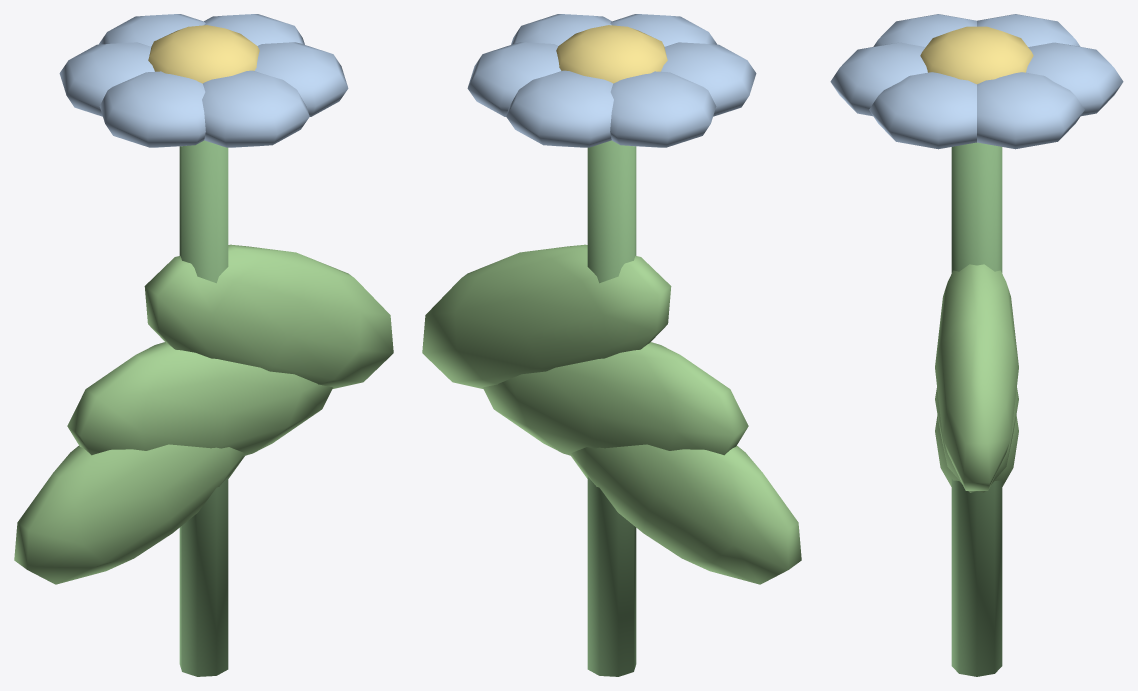
File: flower_b.fbx
The picture shows the model from 3 angles, left to right: view 1: azimuth 30°, elevation 25°; view 2: azimuth 150°, elevation 25°; view 3: azimuth 270°, elevation 25°; orthographic projection.
Visible parts, largest first — view 1: EN_flower_b; view 2: EN_flower_b; view 3: EN_flower_b.
Boxes of the visible parts, x1,y1,x2,y2 form: EN_flower_b: (14, 14, 393, 676); EN_flower_b: (422, 14, 801, 676); EN_flower_b: (830, 14, 1123, 676).
Bounding box in the file's own units: 30.12 × 49.7 × 20.9.
